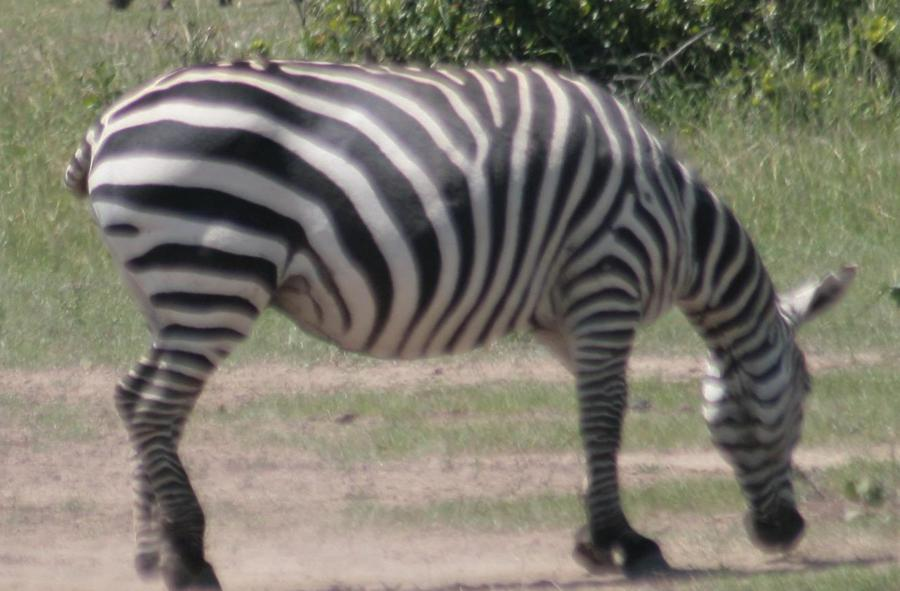zebra_plains: (91, 30, 677, 394)
